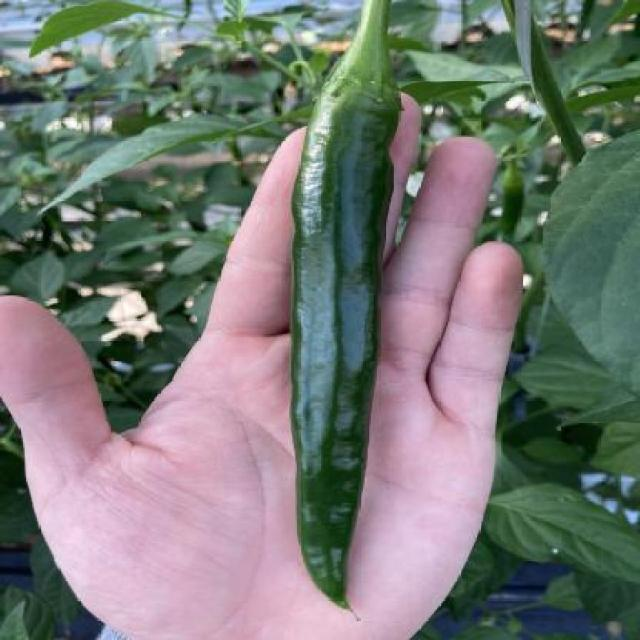green chilli: (289, 94, 400, 611)
